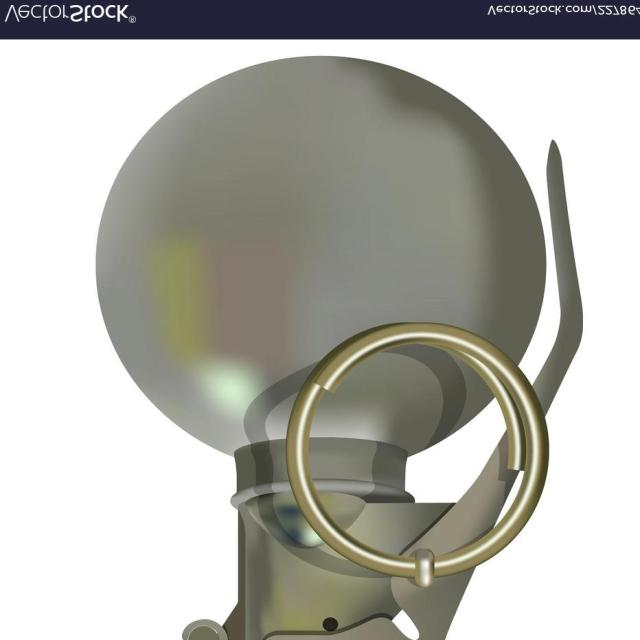grenade: (96, 57, 587, 640)
